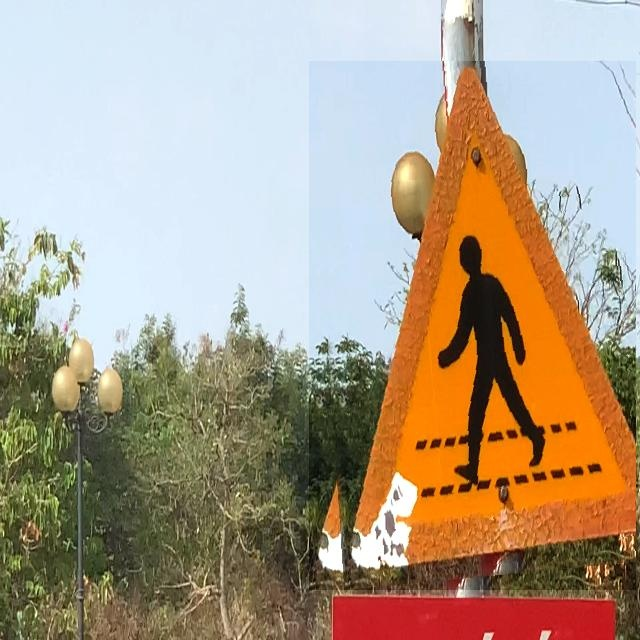bien_nguy_hiem: (309, 61, 636, 590)
